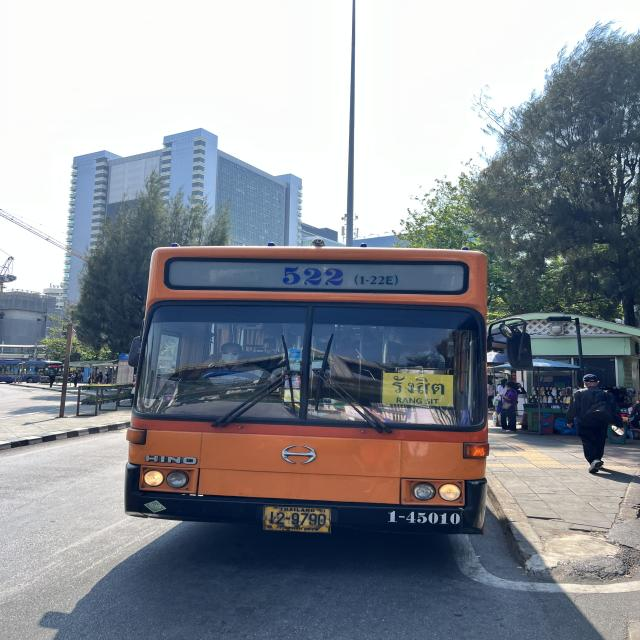BMTA-bus: (123, 246, 490, 538)
Bus-Line-Number: (280, 262, 402, 291)
Destination-Sign-Normal-Expressway: (378, 371, 457, 409)
